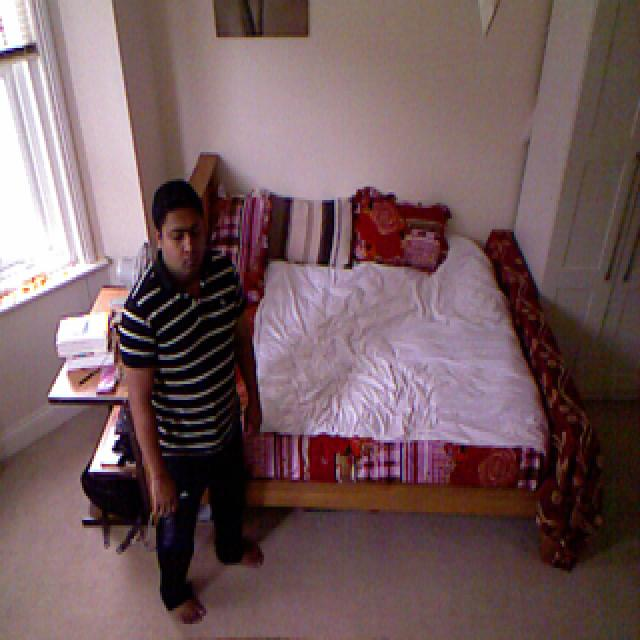standing: (117, 178, 272, 624)
